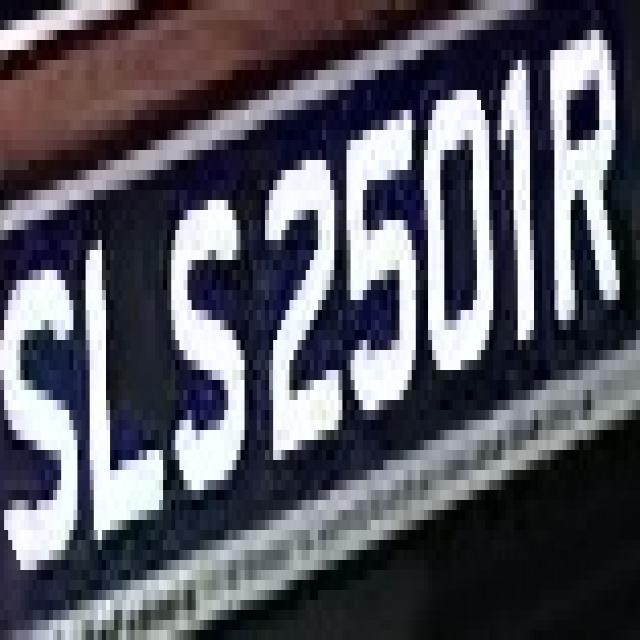0: (416, 80, 501, 400)
1: (502, 30, 542, 380)
2: (261, 160, 355, 480)
5: (334, 100, 424, 440)
L: (66, 210, 176, 530)
R: (538, 0, 624, 400)
S: (151, 180, 261, 500), (8, 230, 78, 590)
